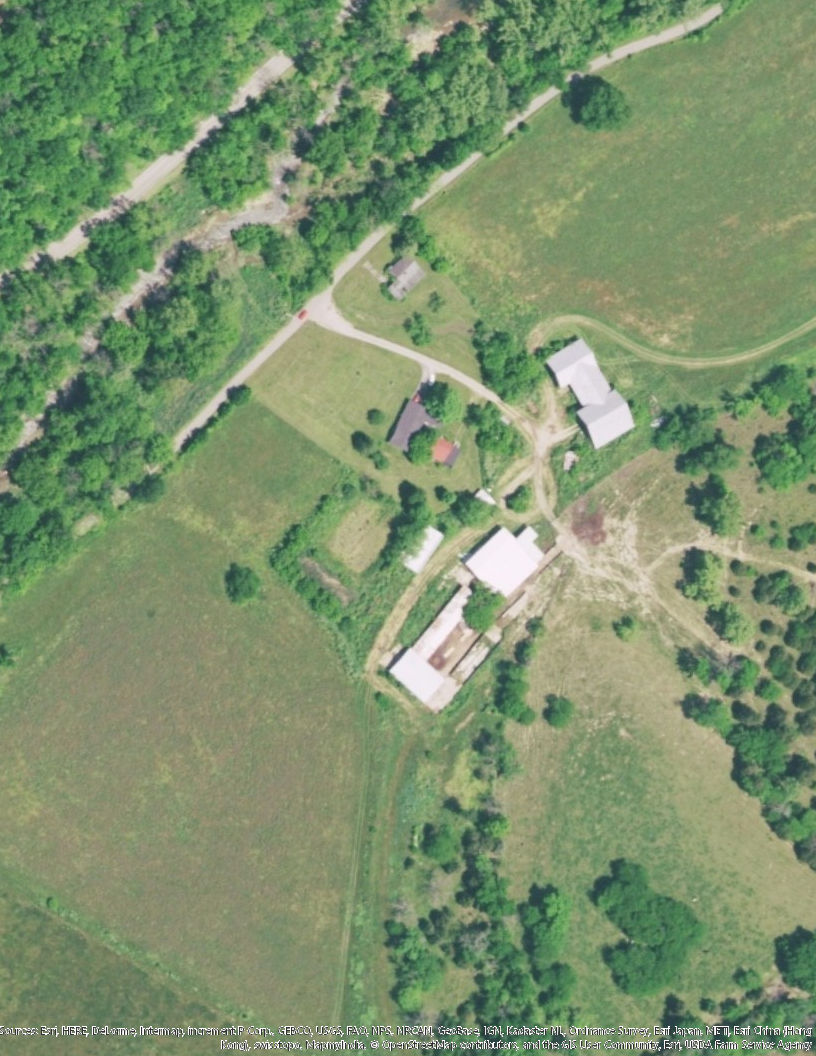cafo: (387, 518, 548, 714)
